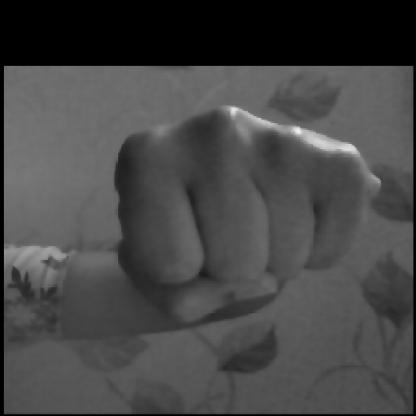fist: (79, 92, 389, 360)
